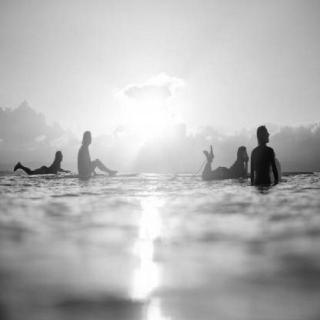other: (106, 69, 184, 163), (130, 174, 170, 304)
